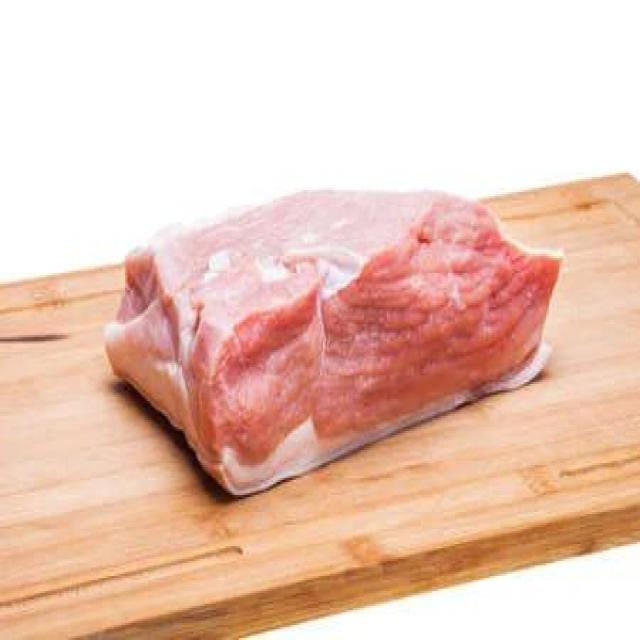pork belly: (106, 185, 567, 492)
